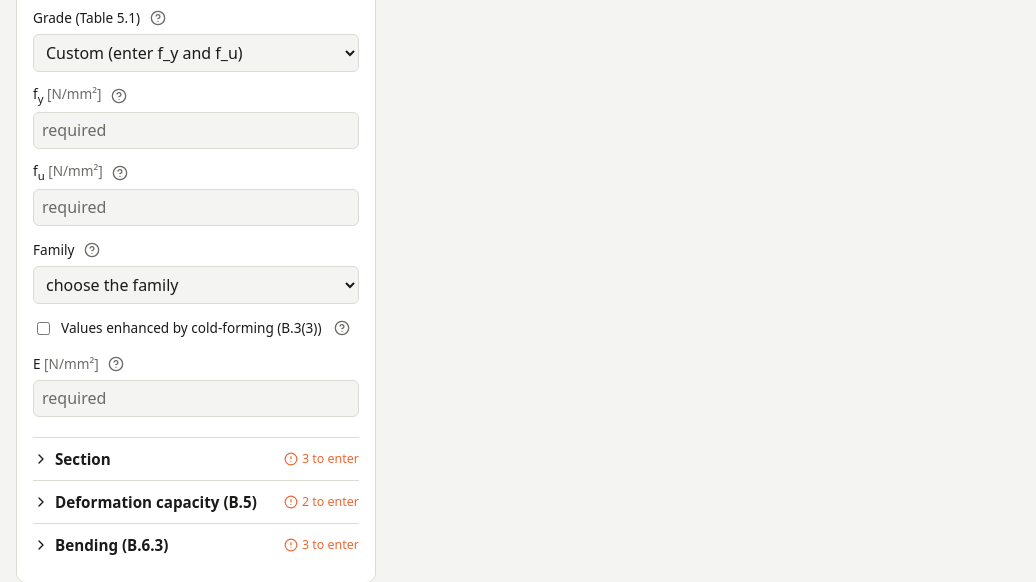
Scenario: the Section group › rectangular hollow section: its dimension fields, each with a ? button
(page scrolled)
Step 1. Click the button "Section 3 to enter" → (83, 459), box [33, 438, 359, 480]
(page scrolled)
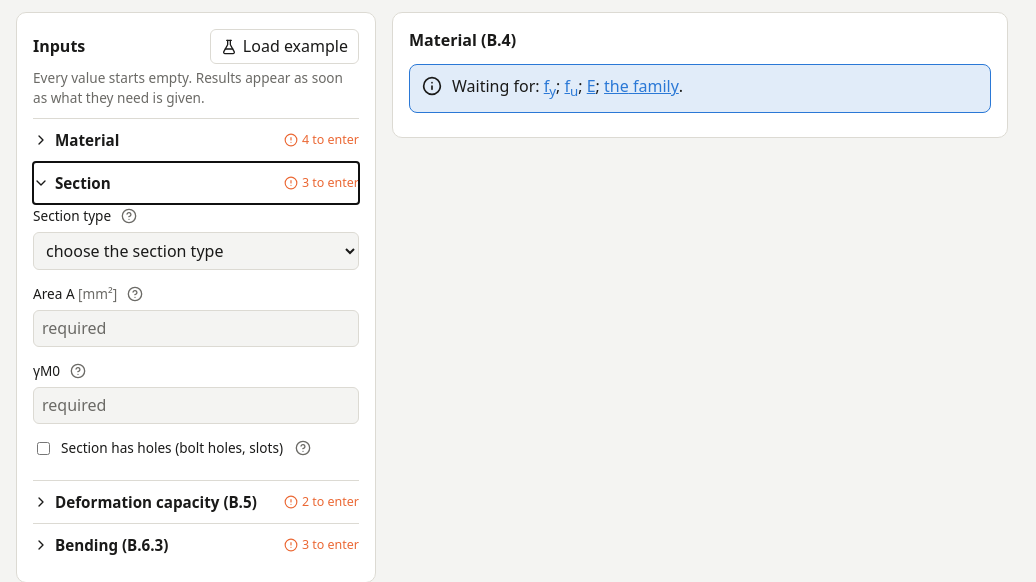
Step 2. Select "Rectangular hollow section" in the dropdown labelled "Section type" → (196, 251), box [33, 232, 359, 270]
(page scrolled)
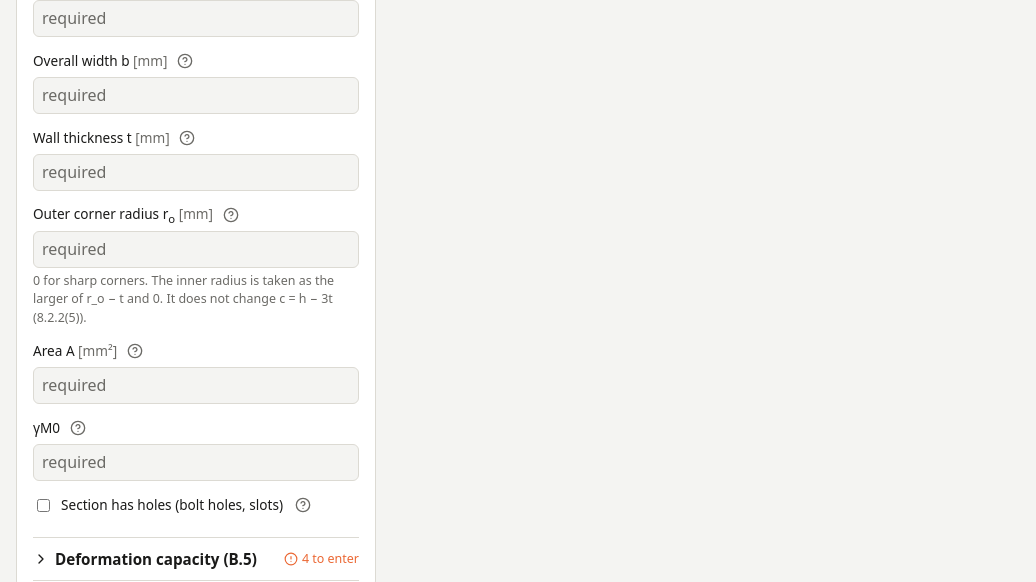
Expected: the button named "What is " is shown, [219, 203, 243, 227]
Expected: the number field labelled "Outer corner radius ro [mm]" is not empty, [33, 231, 359, 268]
